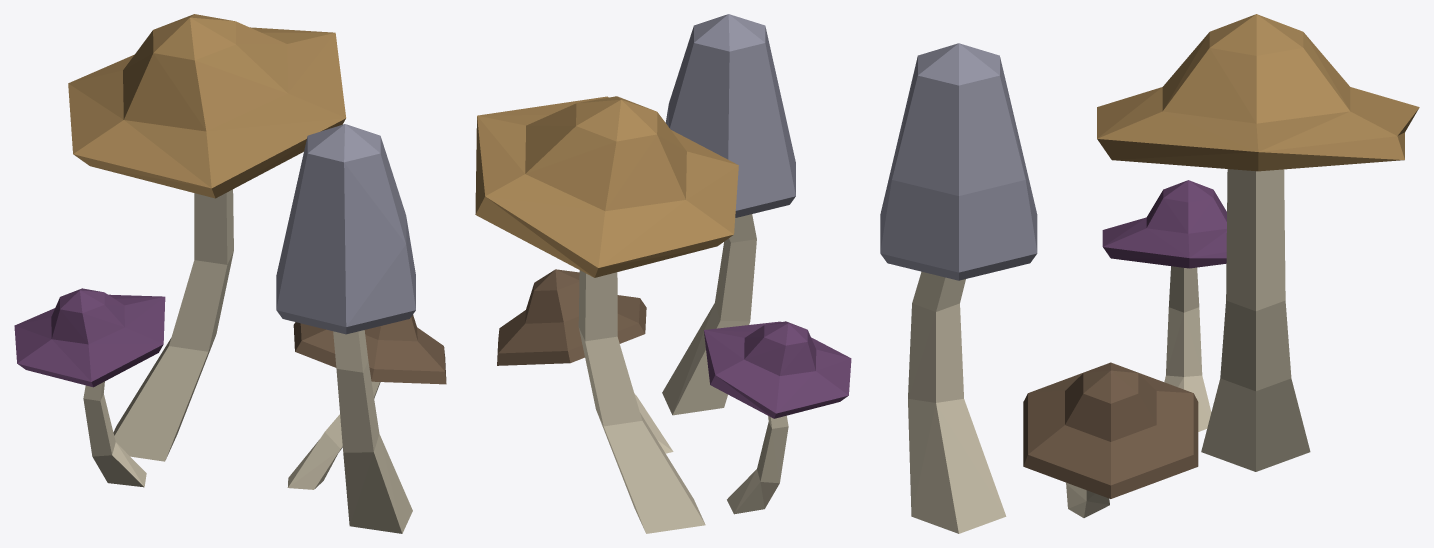
File: Mushroom_01.FBX
3 renders of one model, left to right at view 1: azimuth 30°, elevation 25°; view 2: azimuth 150°, elevation 25°; view 3: azimuth 270°, elevation 25°, orthographic. The views are drawn at different scales.
Visible parts, largest first — view 1: Mushroom_01; view 2: Mushroom_01; view 3: Mushroom_01.
Boxes of the visible parts, x1=… form: Mushroom_01: x1=14, y1=14, x2=446, y2=533; Mushroom_01: x1=475, y1=14, x2=851, y2=533; Mushroom_01: x1=880, y1=14, x2=1419, y2=533.
Size of the model in its own units: 68.75 by 70.34 by 72.69.
